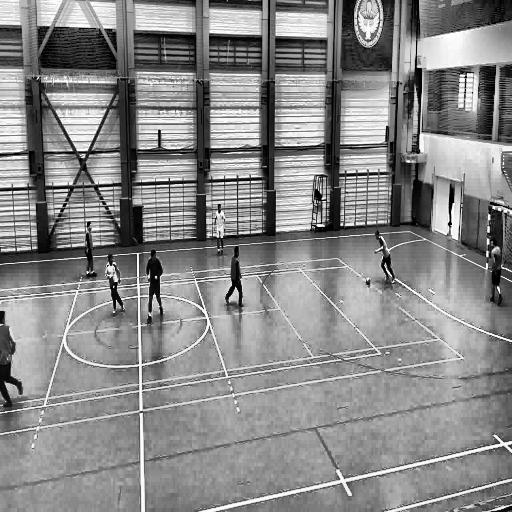ball: (365, 275, 373, 288)
player: (0, 309, 24, 412), (374, 229, 398, 288), (146, 249, 164, 325), (225, 242, 245, 310), (105, 252, 126, 316), (490, 236, 502, 310), (212, 202, 226, 258), (84, 220, 97, 280)
